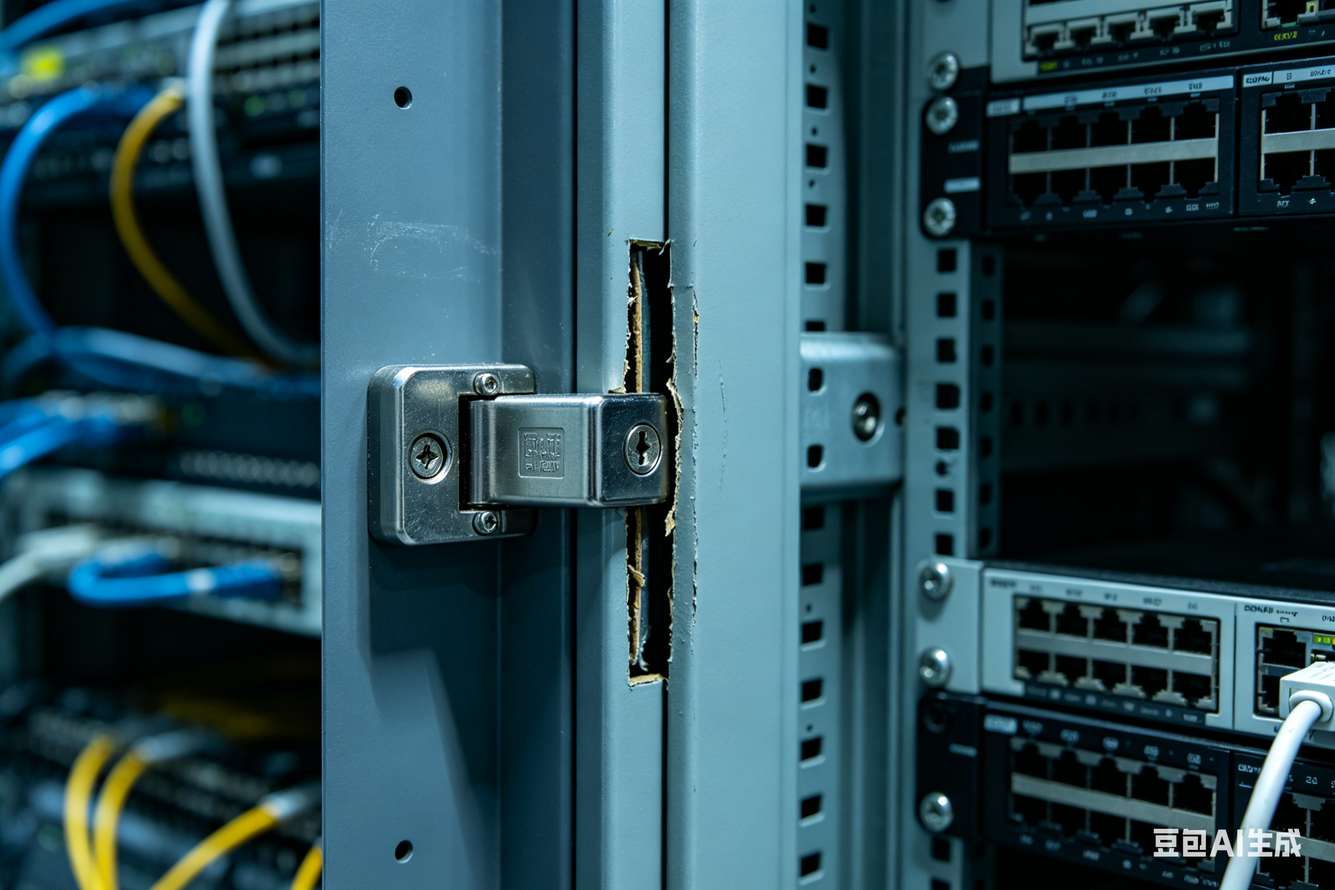BadLock: (612, 229, 701, 691)
